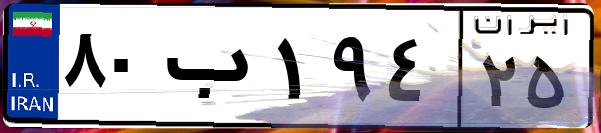0: (110, 28, 158, 98)
1: (270, 28, 330, 110)
2: (475, 38, 525, 113)
4: (385, 28, 445, 110)
5: (525, 38, 570, 115)
8: (57, 26, 110, 100)
9: (330, 28, 385, 110)
ب: (158, 20, 270, 120)
